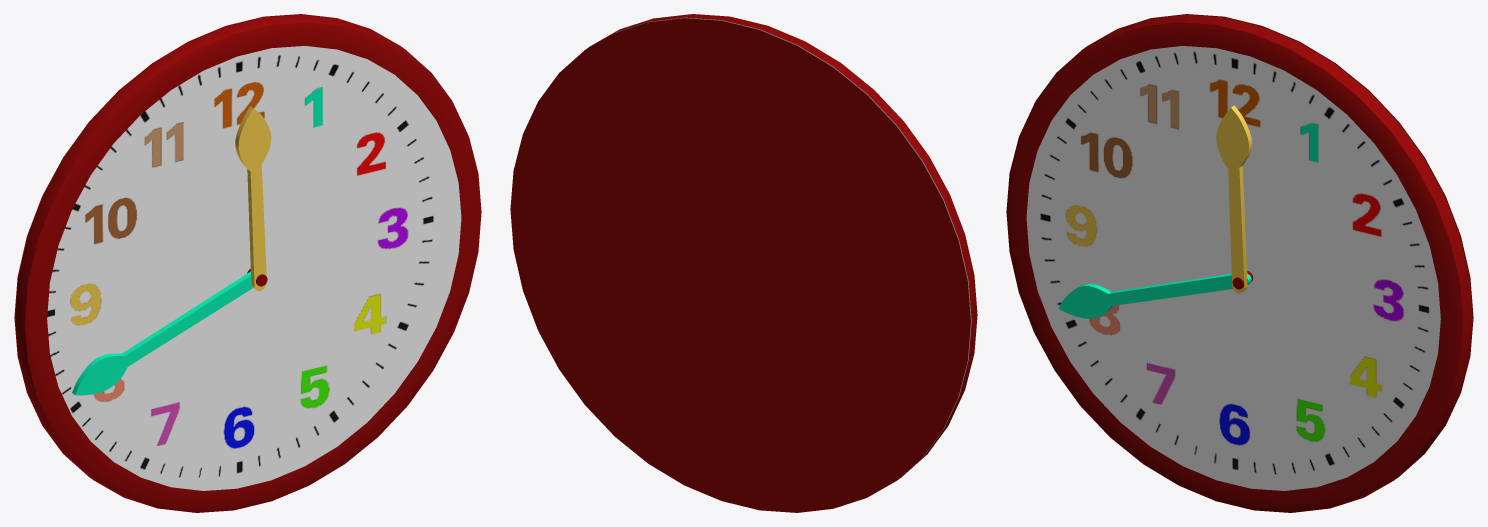
File: Clock.fbx
3 views of the same model, side by side, from view 1: azimuth 30°, elevation 25°; view 2: azimuth 150°, elevation 25°; view 3: azimuth 330°, elevation 25° (orthographic).
Visible parts, largest first — view 1: Clock; view 2: Clock; view 3: Clock.
Part boxes in pixels (left/top/right/bottom): Clock: left=14, top=14, right=481, bottom=512; Clock: left=510, top=14, right=977, bottom=512; Clock: left=1006, top=14, right=1473, bottom=512.
Size of the model in its own units: 30 by 29.9 by 1.28.
1 material, 1 textured.
